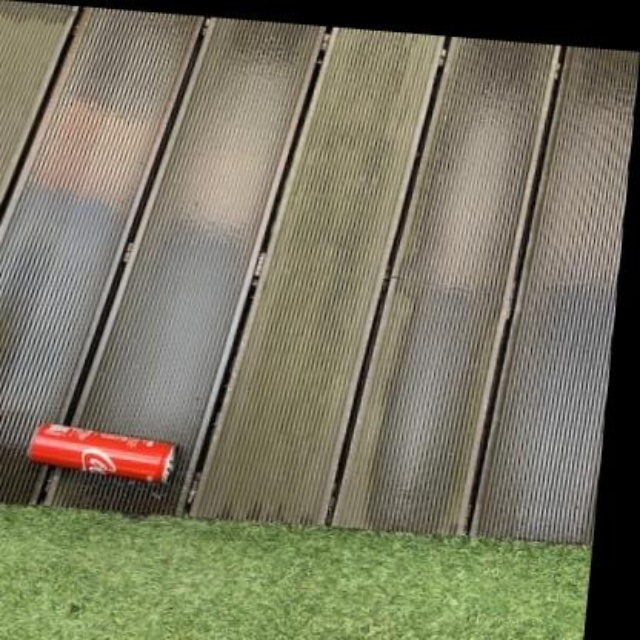trash: (28, 423, 172, 482)
